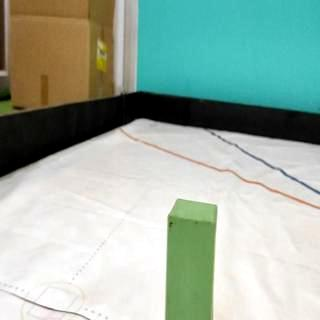greenbox: (164, 196, 218, 320)
